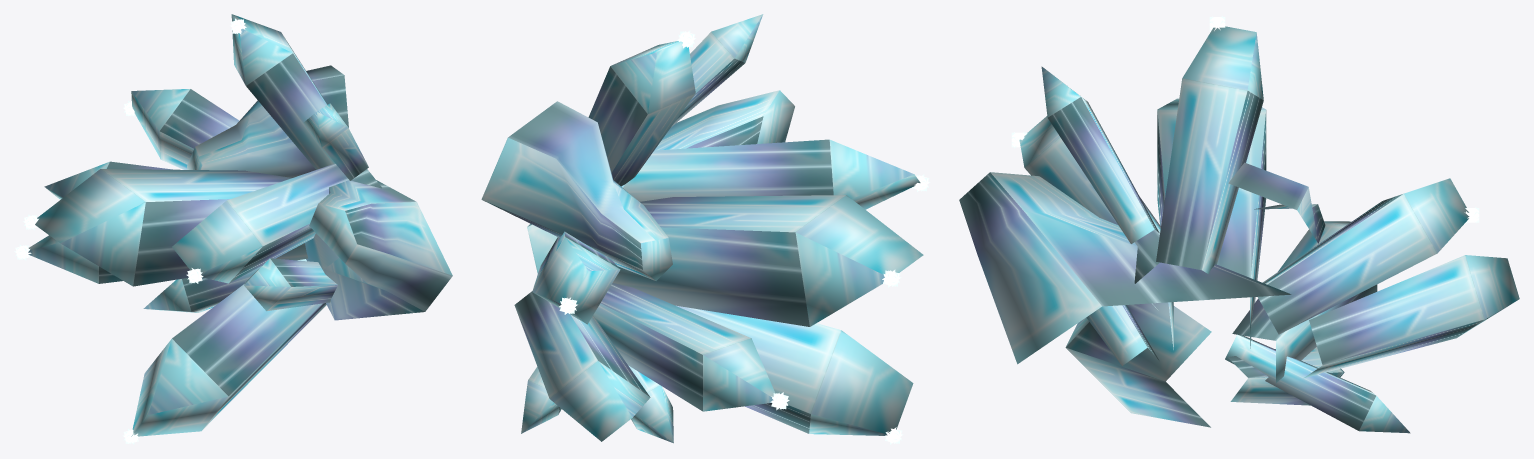
The model's file is a_SWFcrys03.glb.
The picture shows the model from 3 angles, left to right: view 1: azimuth 30°, elevation 25°; view 2: azimuth 150°, elevation 25°; view 3: azimuth 270°, elevation 25°; orthographic projection. The views are drawn at different scales.
Visible parts, largest first — view 1: a_SWFcrys03; view 2: a_SWFcrys03; view 3: a_SWFcrys03.
Boxes of the visible parts, box(x1,y1,x2,y2) form: a_SWFcrys03: box(14, 14, 452, 444); a_SWFcrys03: box(481, 14, 930, 444); a_SWFcrys03: box(959, 16, 1519, 433).
Size of the model in its own units: 1.84 by 1.92 by 2.23.
2 materials, 2 textured.
